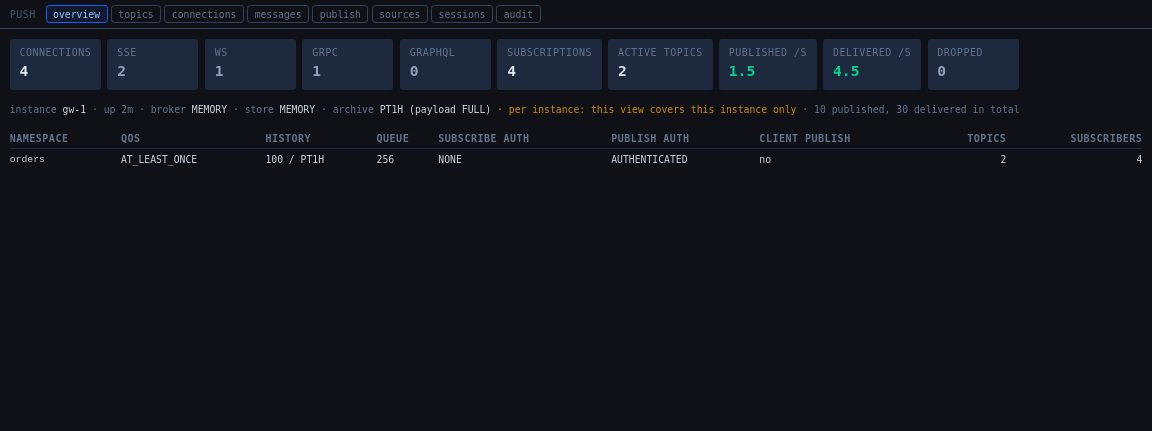
Scenario: PushPanel › searches the archive from the messages view, shows the hit, and posts a dry-run republish from its detail
The image size is (1152, 431).
Click the button "messages".
click(278, 14)  # box left=247, top=5, right=309, bottom=23
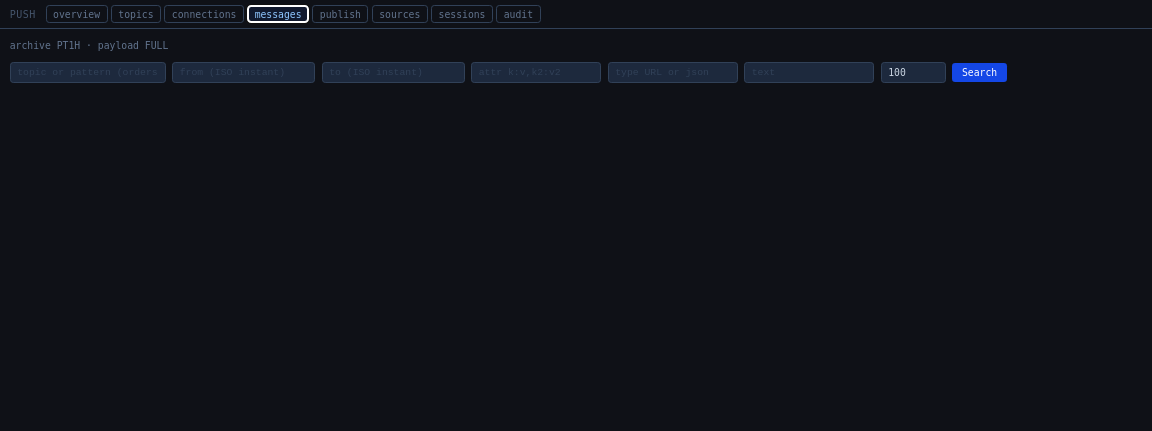
Type "orders:*" into the field labelled "topic or pattern (orders:*)".
click(88, 72); type("orders:*")  # box left=10, top=62, right=166, bottom=83
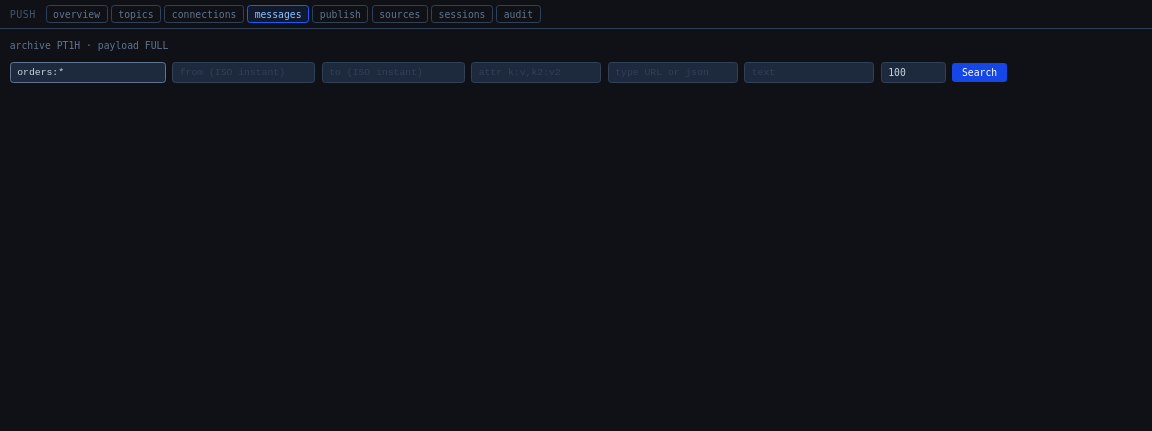
Click the button "Search".
click(980, 72)  # box left=952, top=62, right=1007, bottom=82
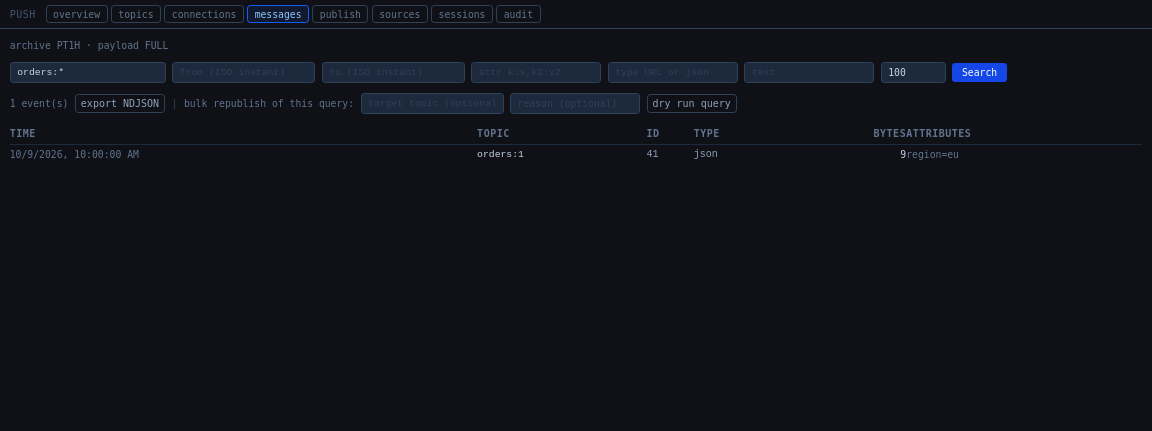
Now the text "region=eu" is shown
Click the text "region=eu".
click(933, 155)  # box left=906, top=144, right=1142, bottom=164
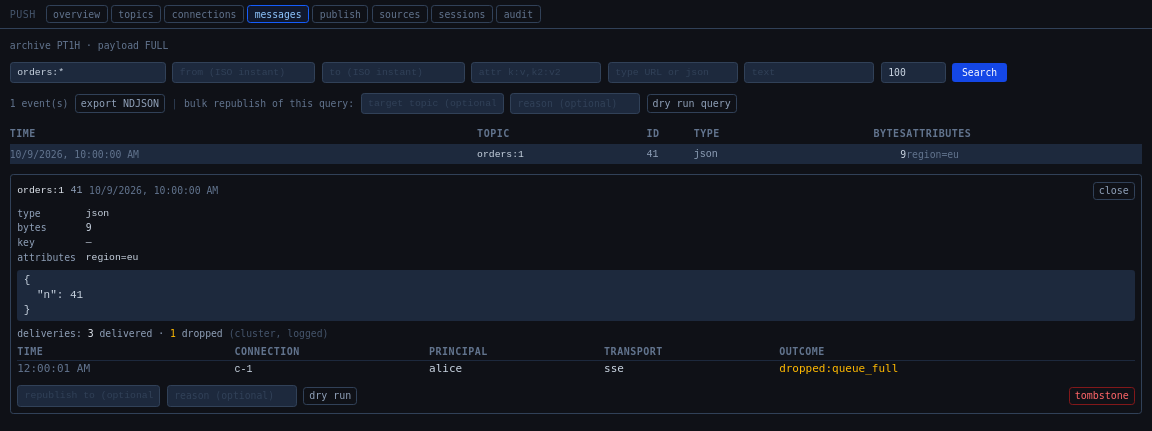
Click the button "dry run".
click(330, 396)  # box left=303, top=387, right=357, bottom=405
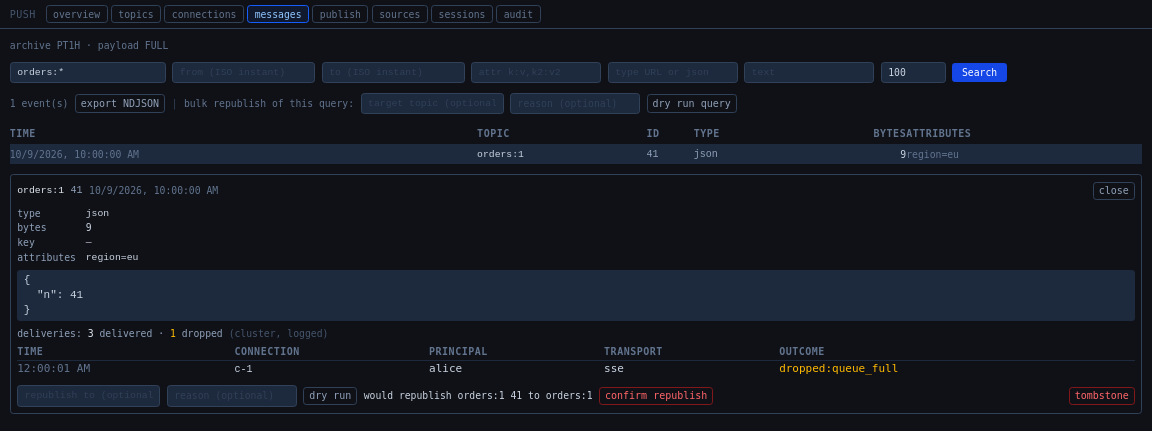
Now the text "would republish orders:1 41 to orders:1" is shown, box left=364, top=390, right=593, bottom=402
